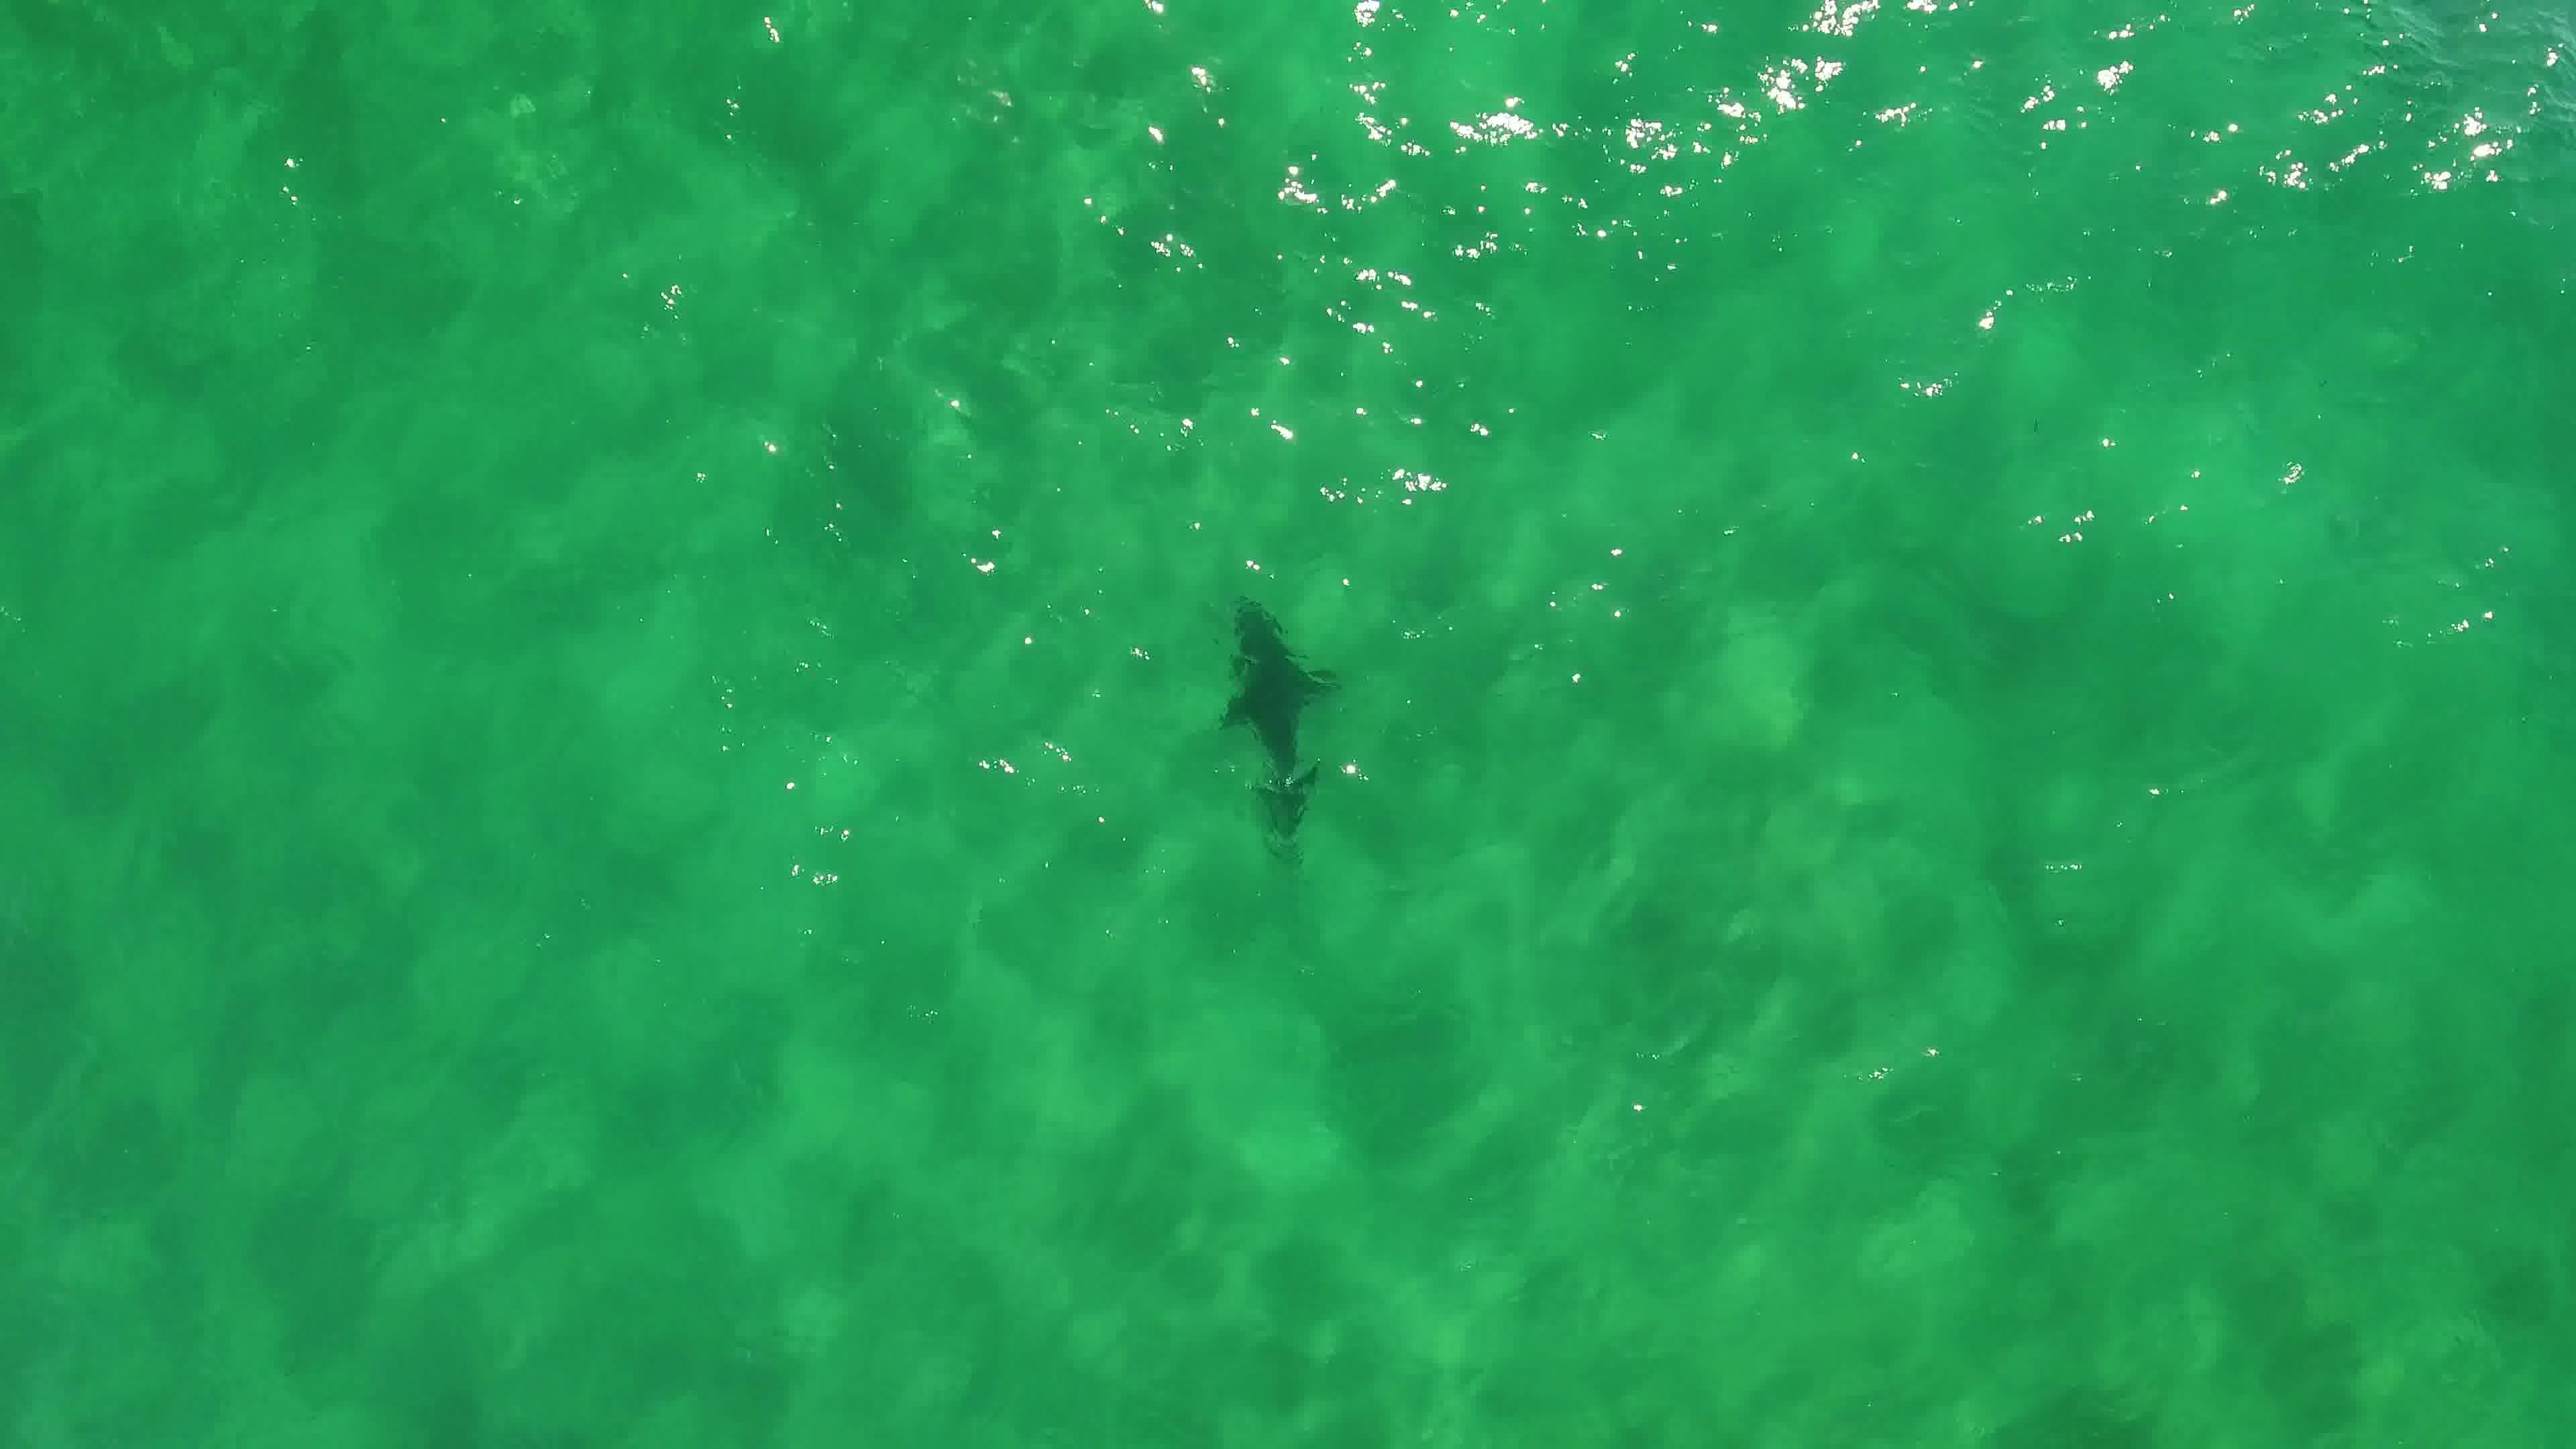shark: (1203, 589, 1348, 872)
